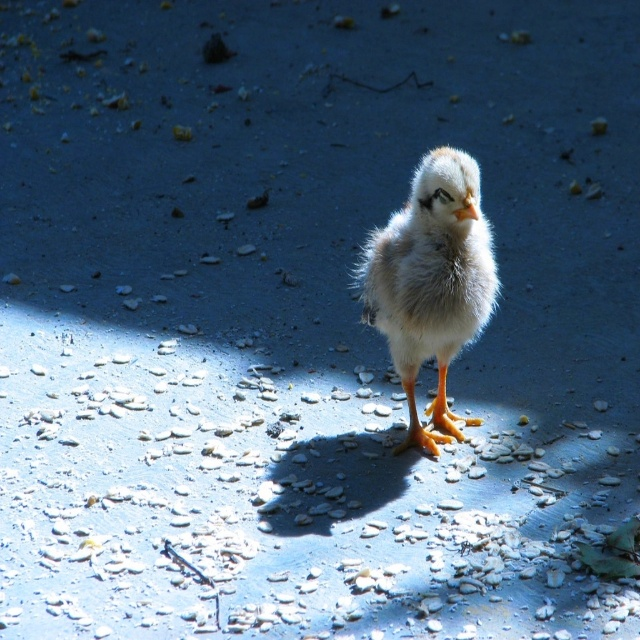Chicken: (364, 151, 501, 449)
